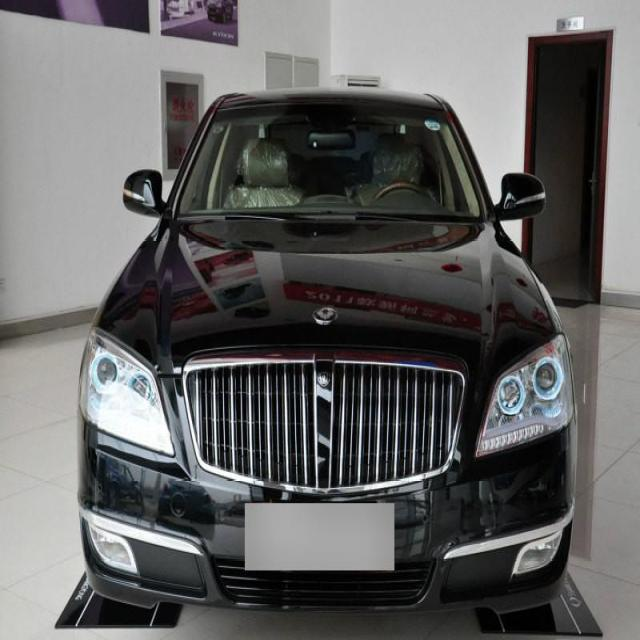front_bumper: (75, 418, 578, 610)
front_glass: (170, 106, 487, 220)
front_left_side_light: (474, 332, 576, 467)
front_left_side_mirror: (494, 168, 548, 224)
front_right_side_light: (76, 328, 175, 463)
front_right_side_mirror: (119, 164, 168, 219)
